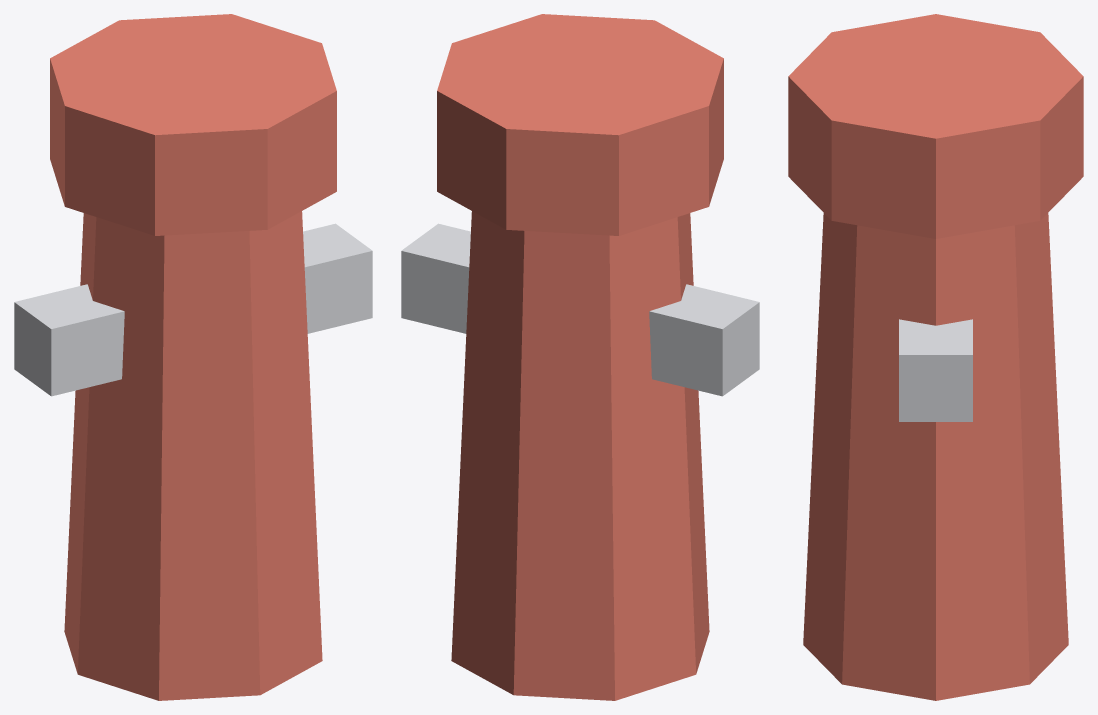
The model's file is hydrant.glb.
The picture shows the model from 3 angles, left to right: view 1: azimuth 30°, elevation 25°; view 2: azimuth 150°, elevation 25°; view 3: azimuth 270°, elevation 25°; orthographic projection.
Visible parts, largest first — view 1: hydrant; view 2: hydrant; view 3: hydrant.
Part boxes in pixels (x1,y1,x2,y2): hydrant: (14,14,372,700); hydrant: (401,14,759,700); hydrant: (788,14,1083,700).
Bounding box in the file's own units: 0.5 × 0.85 × 0.4.
